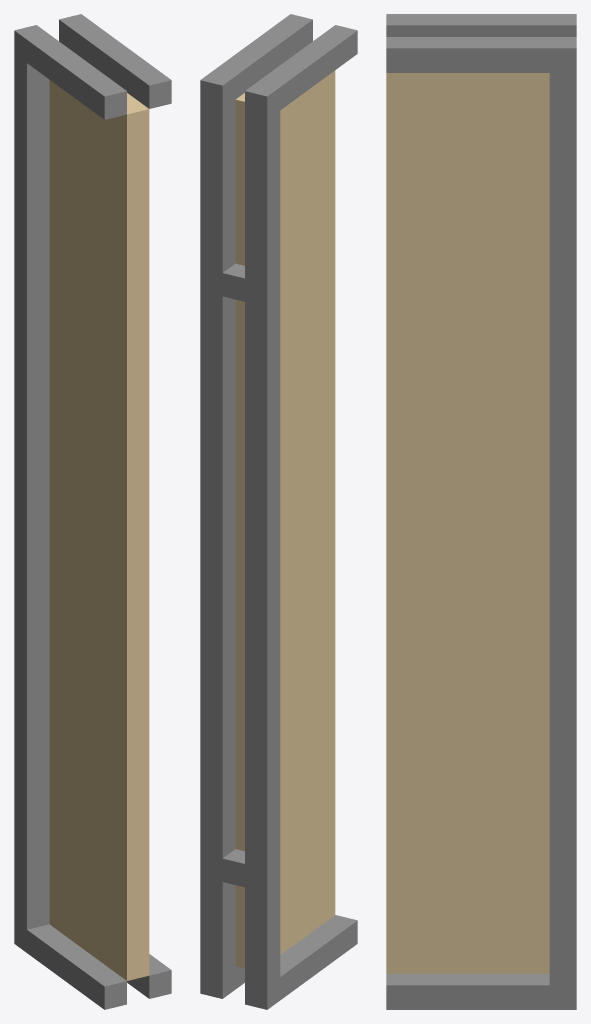
The model's file is MapWIP_v02-10.obj.
3 renders of one model, left to right at view 1: azimuth 30°, elevation 25°; view 2: azimuth 150°, elevation 25°; view 3: azimuth 270°, elevation 25°, orthographic. The views are drawn at different scales.
Size of the model in its own units: 0.3 by 3.9 by 0.7.
1 material, 1 textured.
